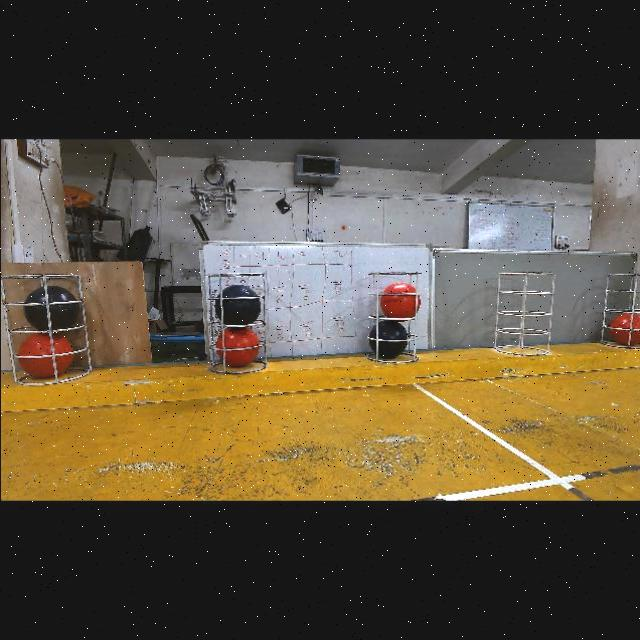P: (23, 286, 79, 330), (214, 283, 261, 325), (368, 319, 408, 360)
R: (17, 332, 74, 379), (220, 326, 259, 368), (379, 282, 419, 318), (609, 312, 640, 345)
S: (362, 270, 426, 366), (493, 266, 561, 354), (208, 272, 264, 372), (592, 274, 640, 352)
